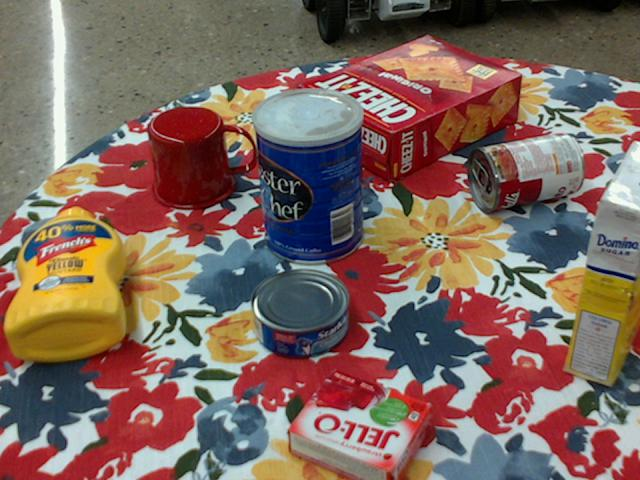cracker_box: (301, 37, 523, 182)
gelatin_box: (289, 371, 437, 479)
master_chef_can: (252, 87, 364, 265)
mug: (147, 106, 255, 210)
mustard_bottle: (5, 207, 126, 360)
sugar_box: (566, 140, 639, 387)
tomato_soup_can: (468, 131, 585, 212)
tuna_fish_can: (251, 269, 349, 359)
